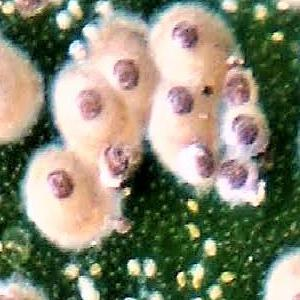Femea: (19, 155, 98, 253), (152, 0, 244, 81), (89, 26, 153, 114), (145, 80, 215, 147), (52, 95, 102, 161), (216, 158, 265, 206), (215, 111, 265, 156), (175, 140, 215, 193), (214, 67, 262, 111), (93, 139, 141, 182)
Linfa: (64, 38, 88, 65), (198, 232, 219, 260), (139, 251, 159, 276), (122, 252, 141, 277), (72, 285, 104, 299), (51, 11, 69, 33), (63, 0, 86, 17), (272, 0, 292, 14)
